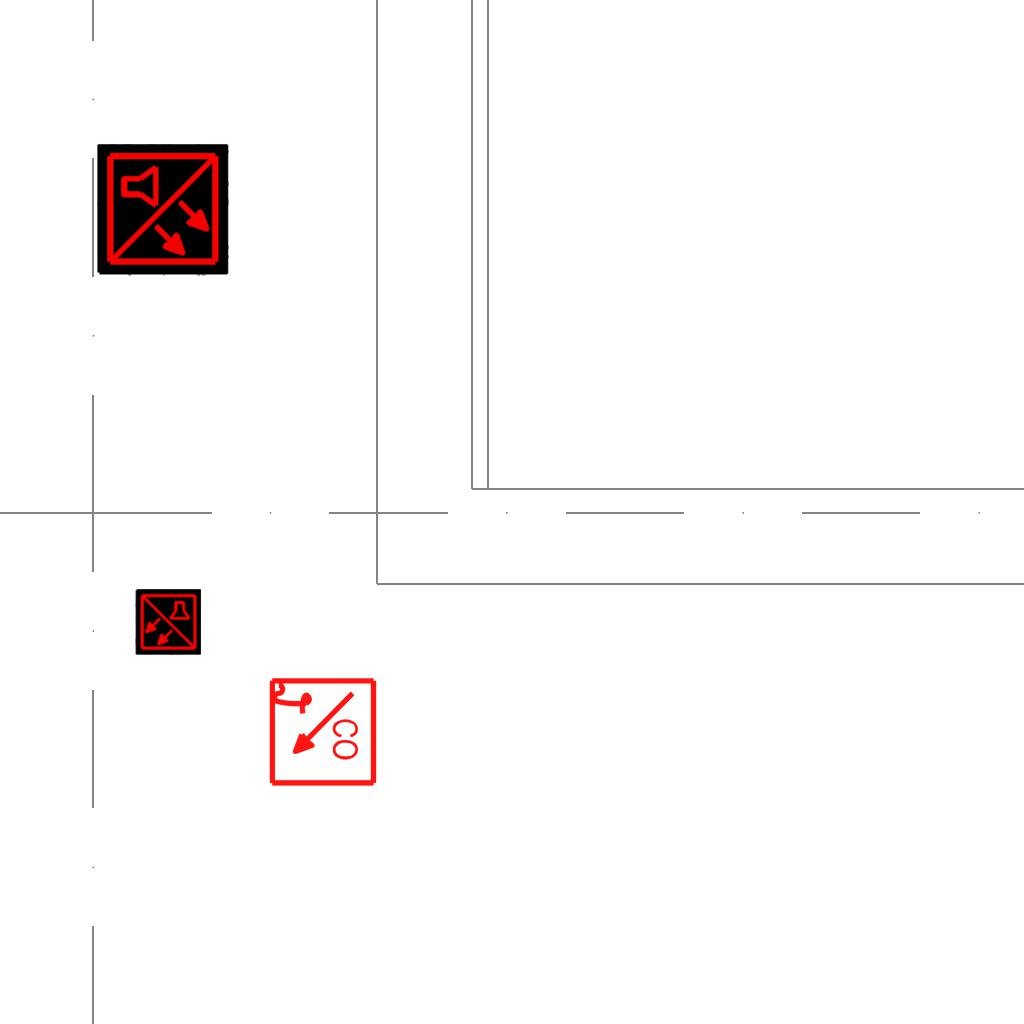OKW_Multisensormelder_(Kombination_optischer_Rauch-Kahlenmonoxid_Waerme-Melder): (97, 144, 229, 276), (135, 589, 201, 655)
ROA_Rauchmelder_optisch_mit_Signalgeber_(Sockelsirene): (265, 676, 378, 789)
